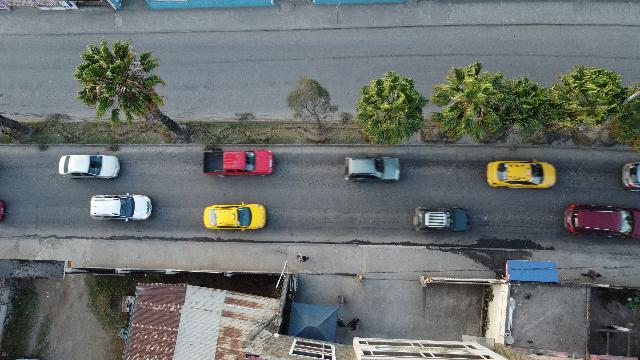Vehiculo: (564, 204, 640, 238), (487, 160, 557, 188), (202, 150, 274, 176), (90, 193, 152, 221), (204, 202, 266, 230), (59, 155, 120, 179), (344, 156, 400, 182), (414, 208, 471, 232), (622, 161, 640, 191)
